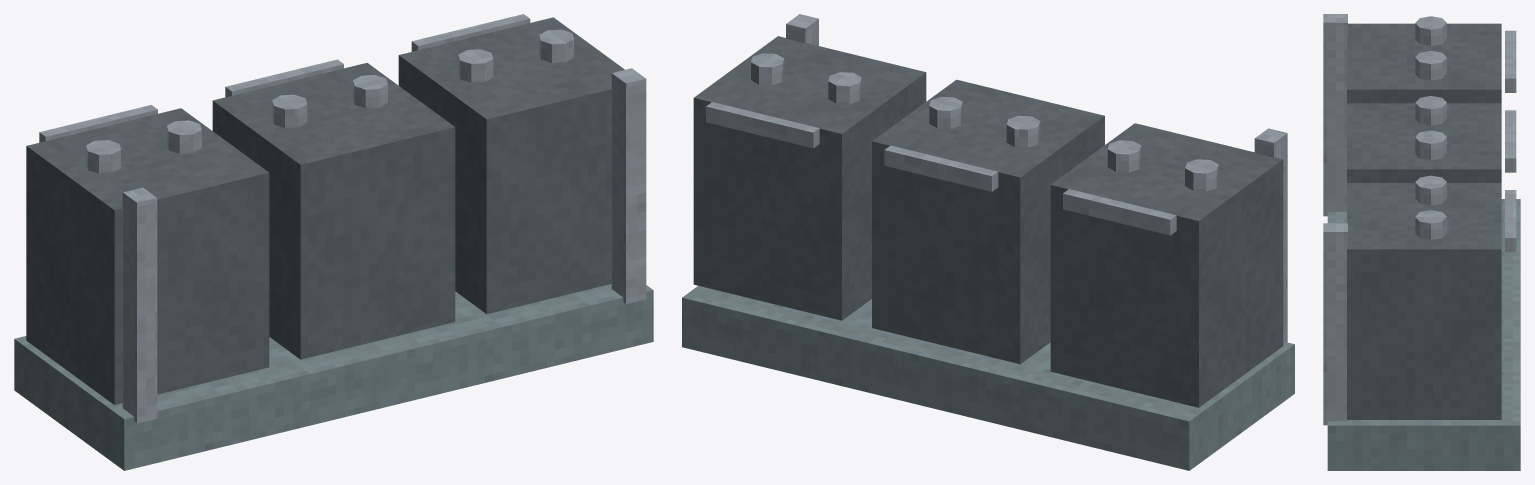
The model's file is level_blockout_research_battery_bank.glb.
3 renders of one model, left to right at view 1: azimuth 30°, elevation 25°; view 2: azimuth 150°, elevation 25°; view 3: azimuth 270°, elevation 25°, orthographic. The views are drawn at different scales.
Parts seen in each view (by area): view 1: level_blockout_research_battery_bank; view 2: level_blockout_research_battery_bank; view 3: level_blockout_research_battery_bank.
Boxes of the visible parts, x1,y1,x2,y2 form: level_blockout_research_battery_bank: (14, 14, 653, 470); level_blockout_research_battery_bank: (682, 14, 1294, 470); level_blockout_research_battery_bank: (1323, 14, 1520, 470).
Size of the model in its own units: 2.36 by 1.15 by 0.87.
3 materials, 3 textured.
